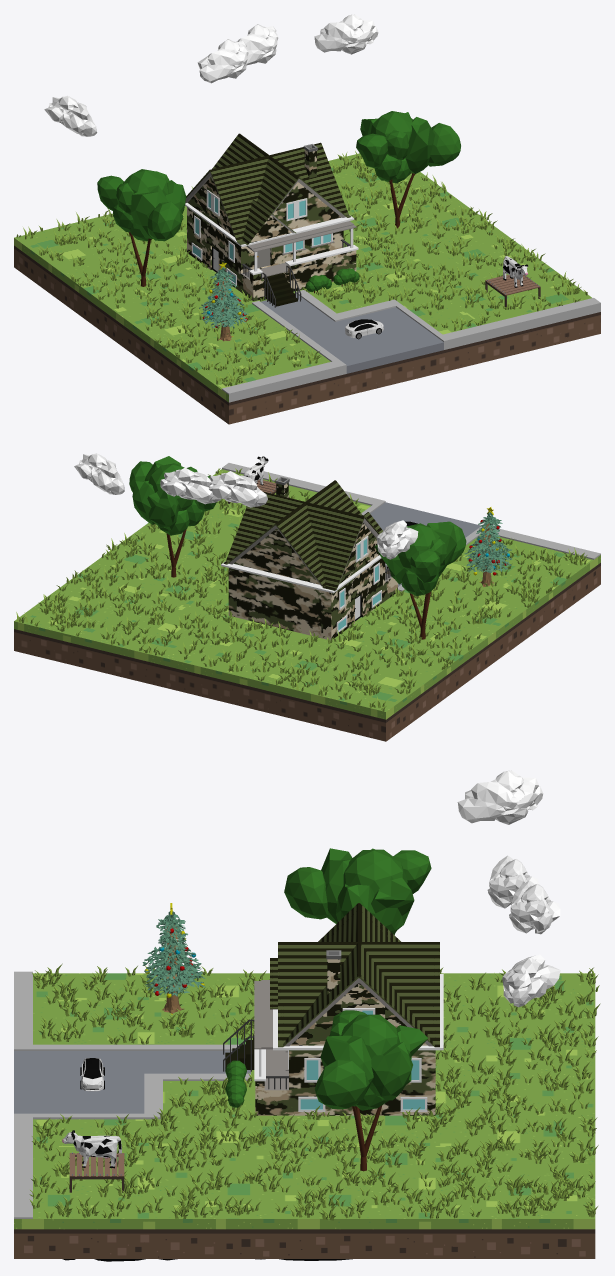
3 views of the same model, one above another, from view 1: azimuth 30°, elevation 25°; view 2: azimuth 150°, elevation 25°; view 3: azimuth 270°, elevation 25° (orthographic). The views are drawn at different scales.
Visible parts, largest first — view 1: Cube.006, Cube.001, Circle.012_Grass_0.192, Cube.007, tree, tree.001, OBJRANDOM_CHRISTMAS_TREE, Cube.009, VEHICLES_TESLA; view 2: Cube.006, Cube.001, Circle.012_Grass_0.192, Cube.007, tree.001, tree, OBJRANDOM_CHRISTMAS_TREE; view 3: Cube.006, Circle.012_Grass_0.192, Cube.001, tree, Cube.007, tree.001, OBJRANDOM_CHRISTMAS_TREE, Cube.009, ANIMAL_VACA, VEHICLES_TESLA.
Part boxes in pixels (x1,y1,x2,y2): Cube.006: [14, 153, 600, 424]; Cube.001: [185, 133, 358, 307]; Circle.012_Grass_0.192: [16, 151, 587, 386]; Cube.007: [44, 14, 378, 136]; tree: [356, 111, 460, 228]; tree.001: [97, 169, 186, 286]; OBJRANDOM_CHRISTMAS_TREE: [199, 262, 248, 341]; Cube.009: [485, 274, 540, 306]; VEHICLES_TESLA: [345, 319, 383, 339]; Cube.006: [14, 463, 600, 741]; Cube.001: [221, 477, 397, 640]; Circle.012_Grass_0.192: [16, 468, 587, 711]; Cube.007: [74, 453, 418, 559]; tree.001: [374, 521, 466, 639]; tree: [129, 456, 216, 577]; OBJRANDOM_CHRISTMAS_TREE: [464, 507, 511, 586]; Cube.006: [14, 971, 595, 1258]; Circle.012_Grass_0.192: [29, 963, 600, 1220]; Cube.001: [223, 903, 443, 1115]; tree: [314, 1010, 427, 1171]; Cube.007: [457, 770, 560, 1007]; tree.001: [284, 848, 431, 934]; OBJRANDOM_CHRISTMAS_TREE: [142, 903, 205, 1014]; Cube.009: [69, 1152, 124, 1192]; ANIMAL_VACA: [62, 1130, 121, 1168]; VEHICLES_TESLA: [80, 1058, 104, 1091].
Size of the model in its own units: 4071 by 2149 by 4040.
33 materials, 5 textured.
